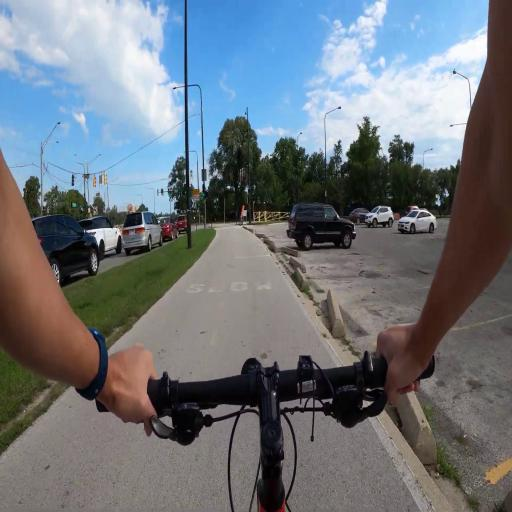Street_Light: (171, 78, 210, 244), (179, 0, 196, 256), (38, 113, 66, 210), (320, 98, 344, 208), (76, 148, 106, 208), (497, 0, 512, 93), (451, 64, 474, 109), (146, 184, 158, 215), (423, 141, 437, 162), (134, 188, 145, 210), (448, 118, 468, 130)
